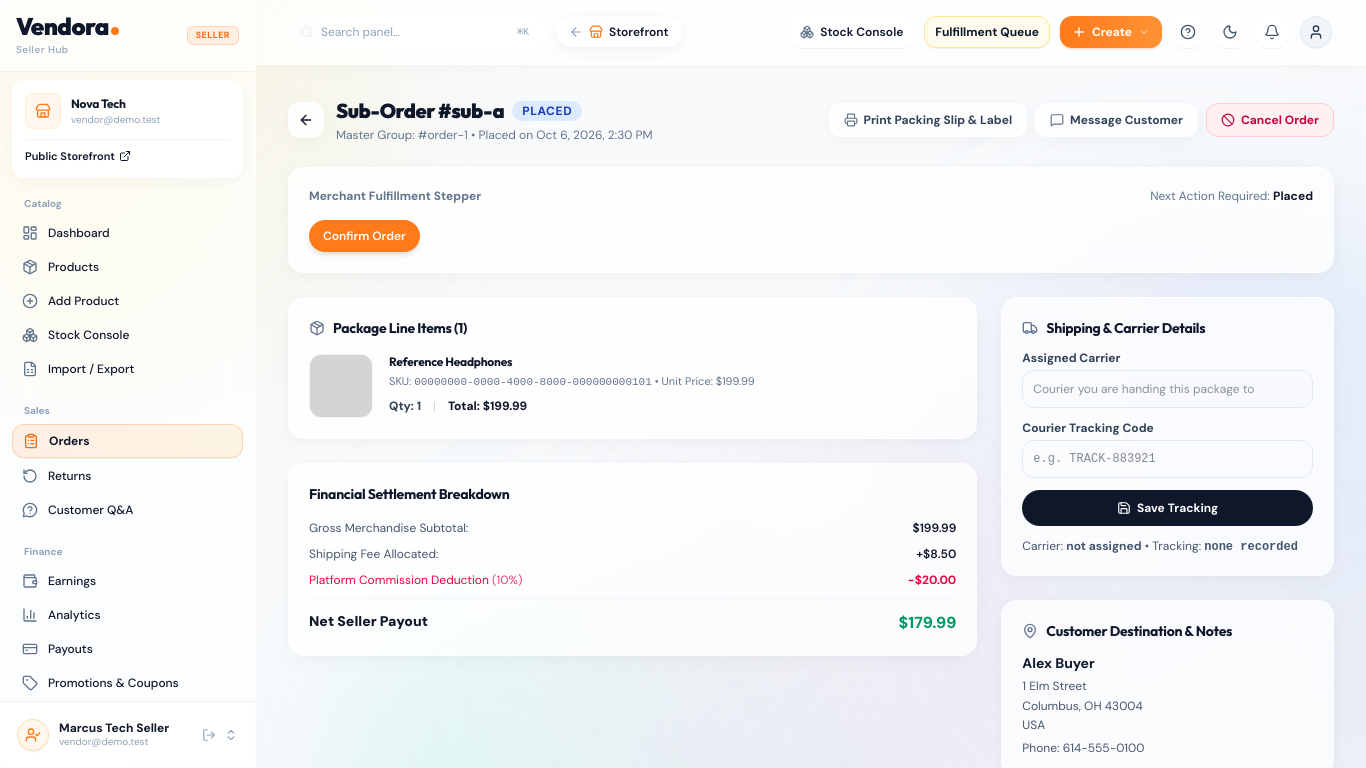
Test: VendorOrderDetailPage › cancels through the state machine, with the reason kept in the history the database holds
This screenshot has width=1366, height=768.
Click the button "Cancel Order".
click(1270, 120)  # box [1206,103,1334,137]
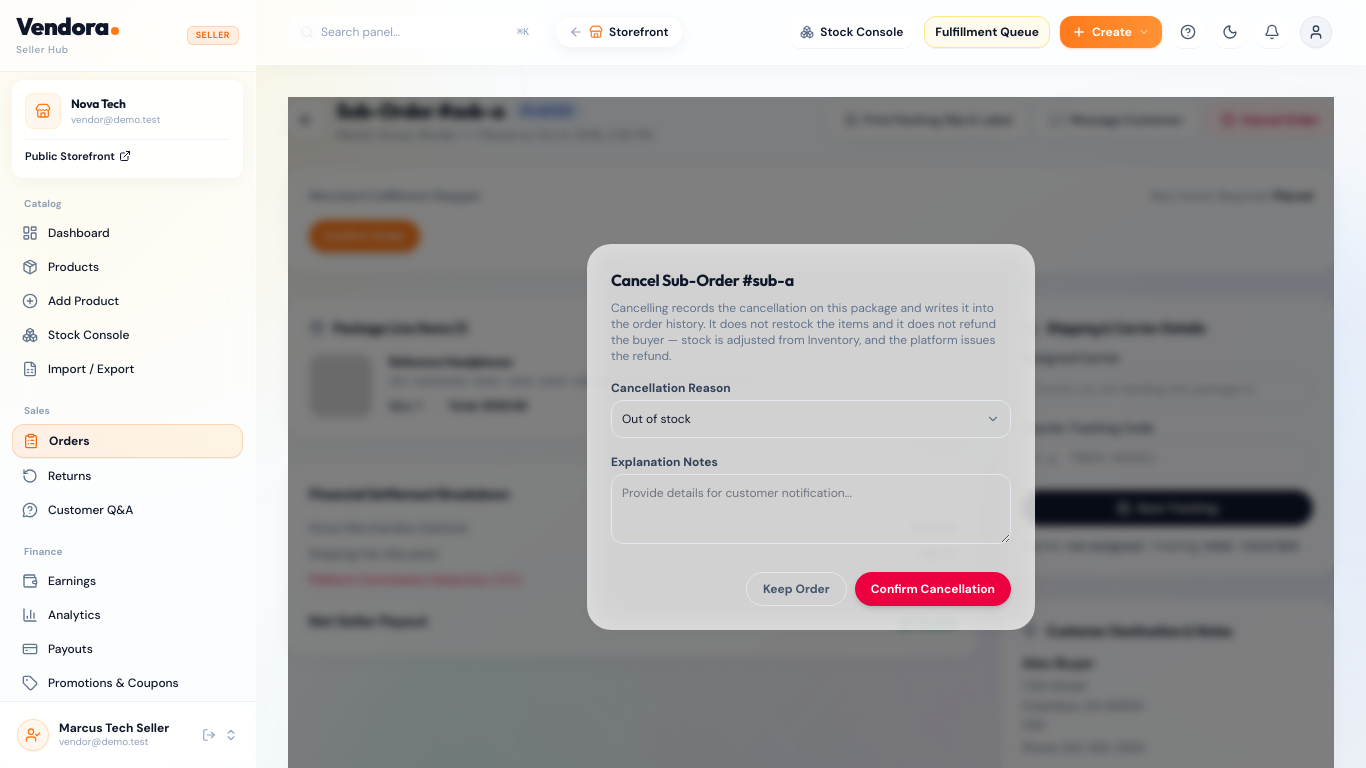
expect the heading "Cancel Sub-Order #sub-a" is shown: met, box [611,270,794,290]
Select "Pricing error" in the 2nd dropdown at (811, 419), box [611,400,1011,438]
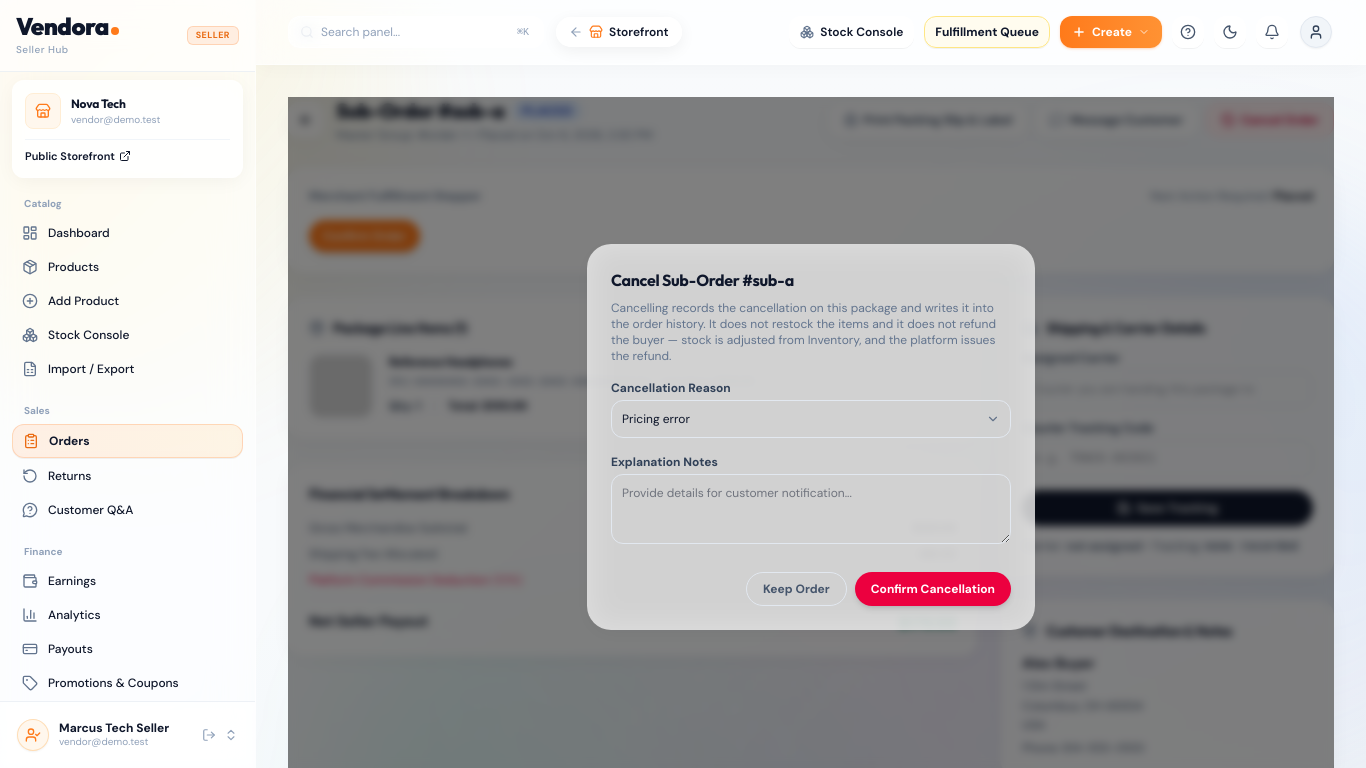
Click the button "Confirm Cancellation".
click(933, 589)  # box [855,572,1011,606]
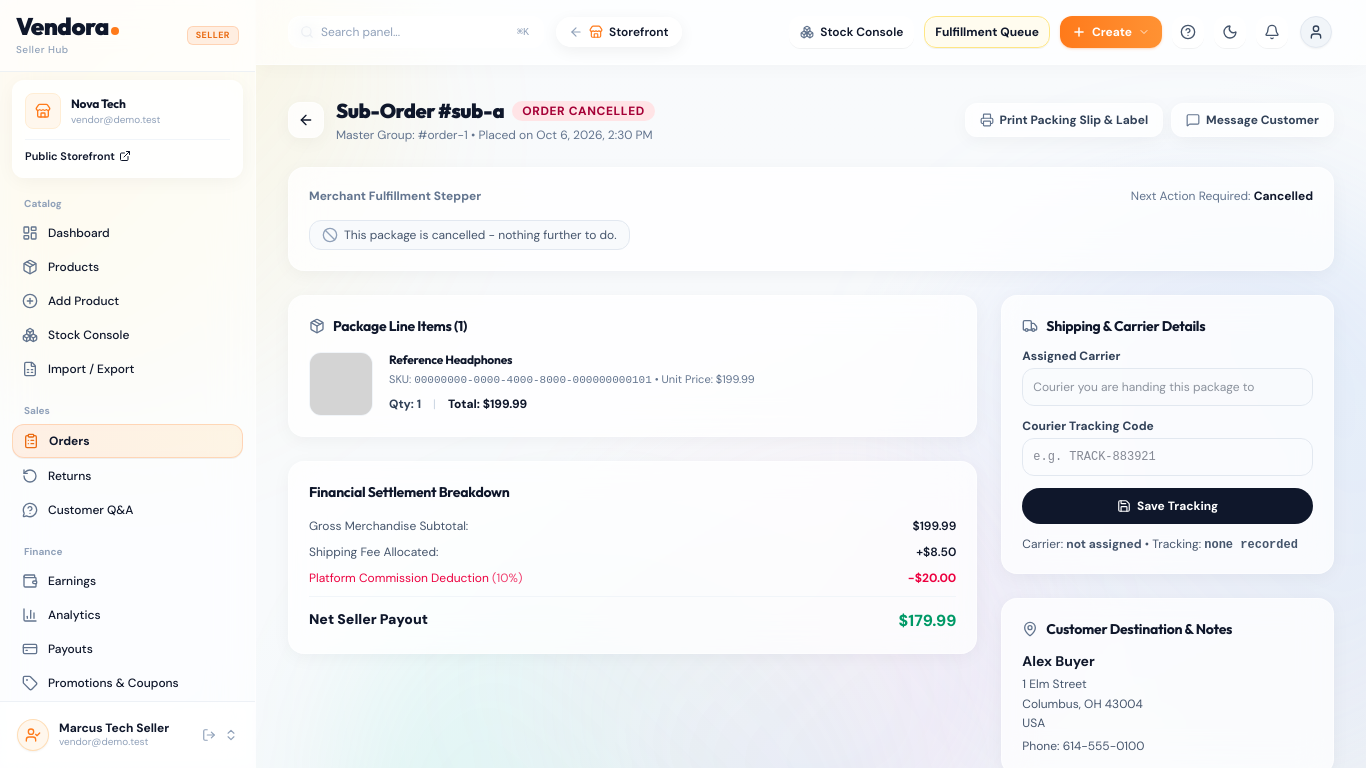
expect the text "Order Cancelled" is shown: met, box [512,101,655,121]
